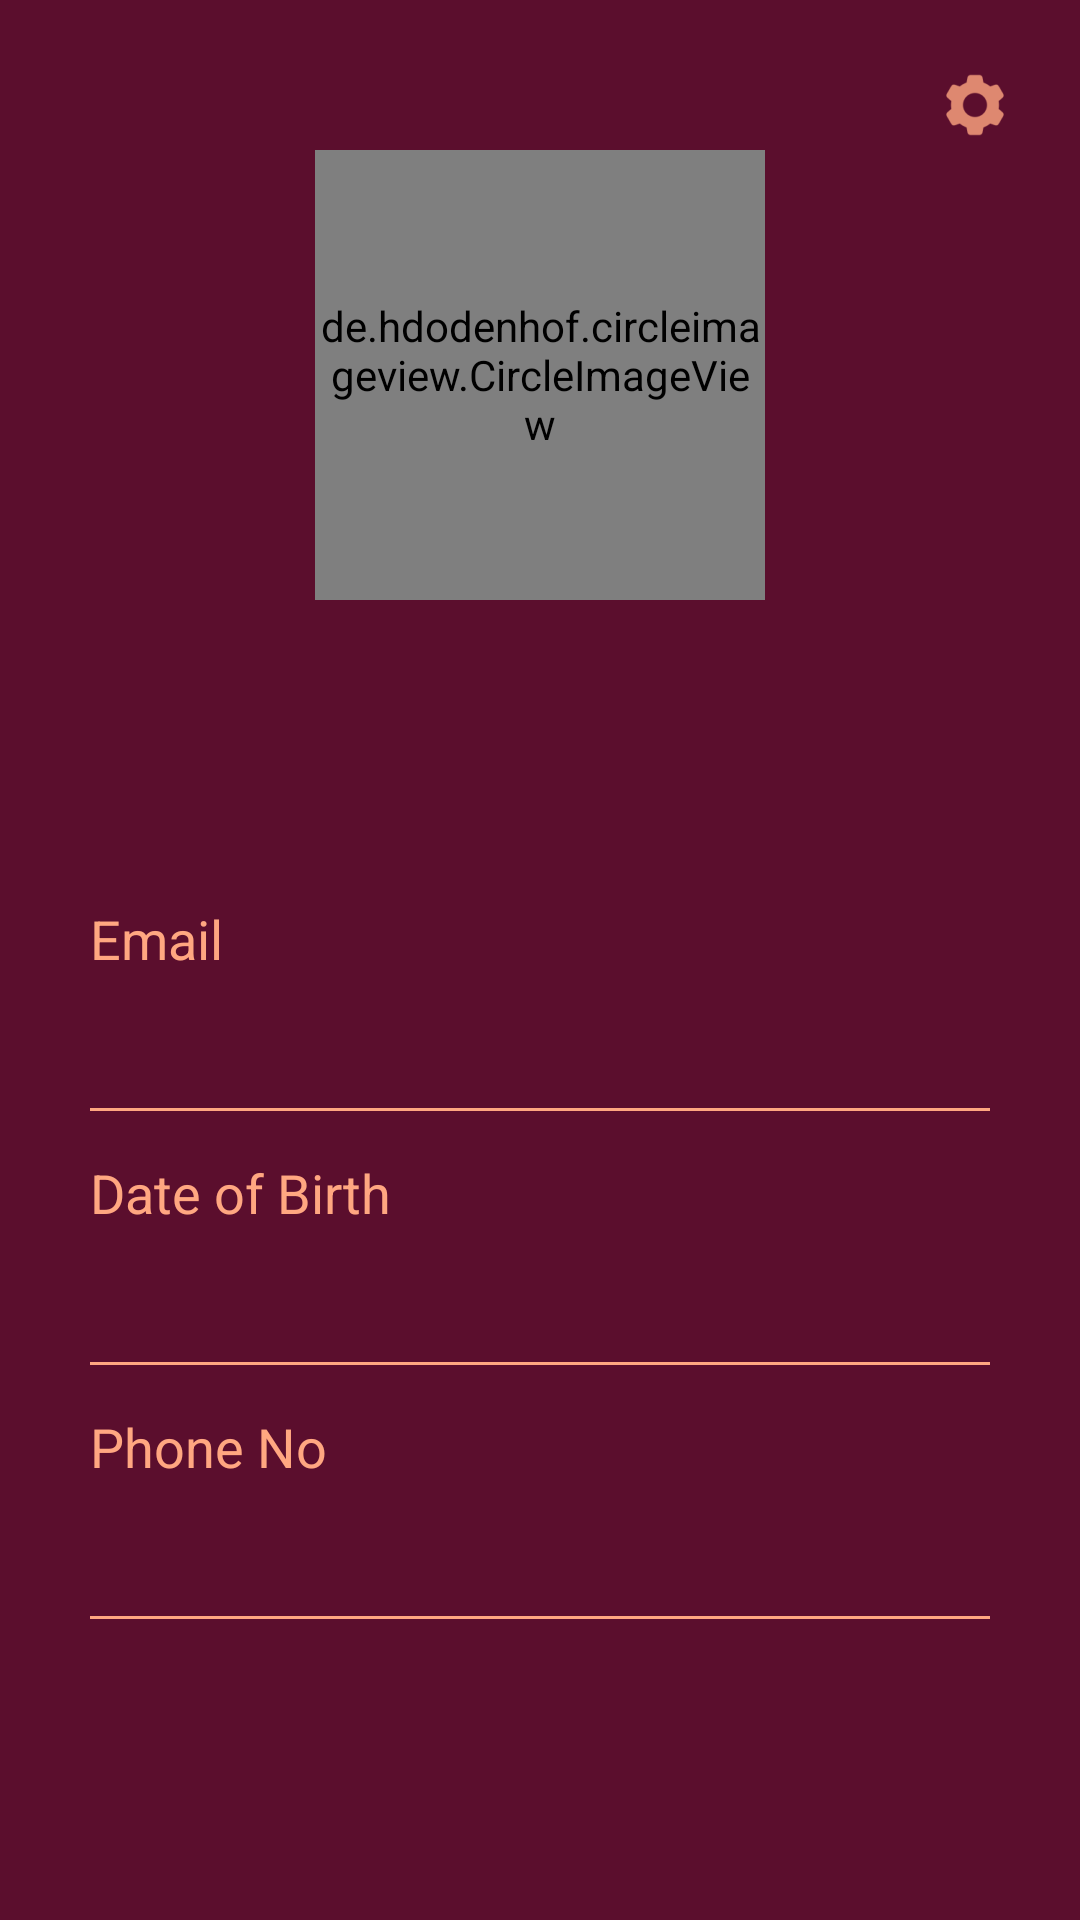

Screen size 1080 x 1920. Icon name, then its center in pixels as (x=x, y=y):
settings: (x=975, y=105)
